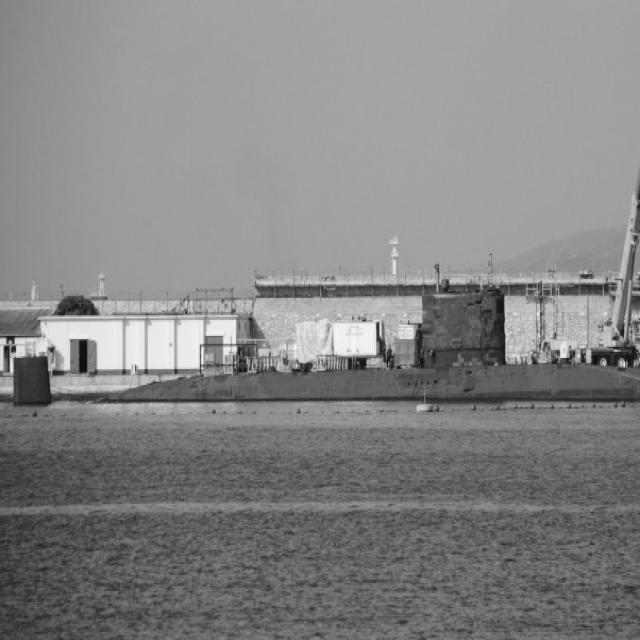submarine: (11, 291, 640, 408)
